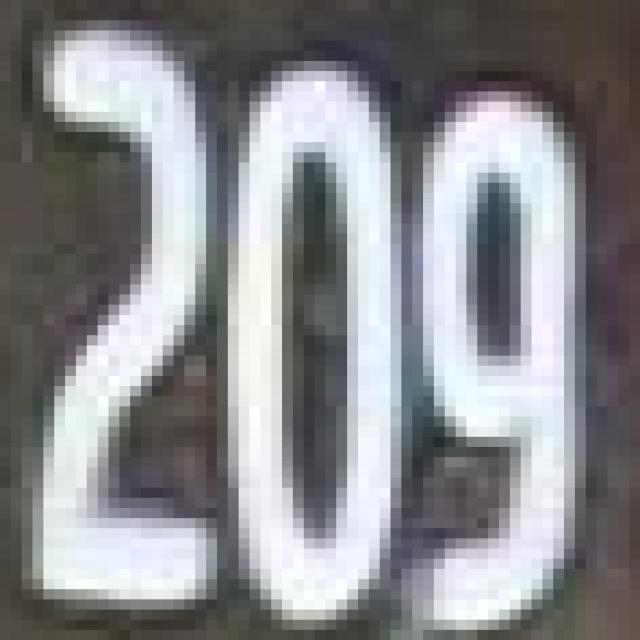character: (17, 13, 225, 619), (226, 49, 412, 633), (412, 71, 601, 638)
